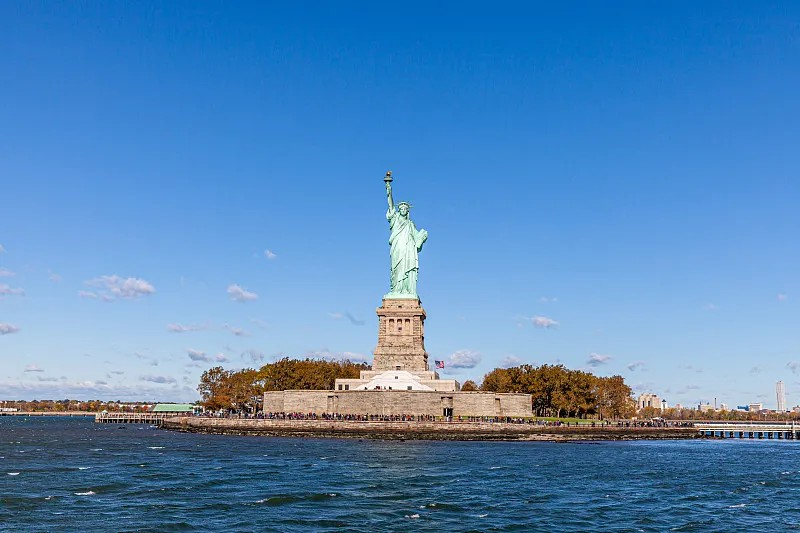SL: (371, 169, 431, 371)
